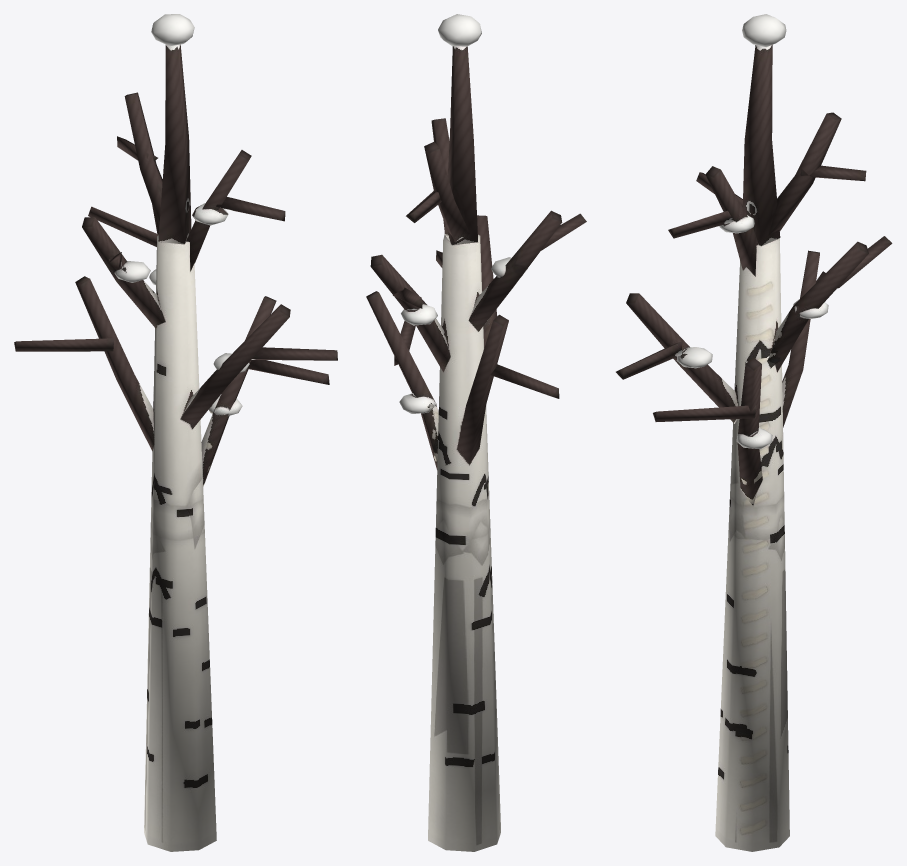
Rendered from tree_bare_kaba.glb.
3 views of the same model, side by side, from view 1: azimuth 30°, elevation 25°; view 2: azimuth 150°, elevation 25°; view 3: azimuth 270°, elevation 25° (orthographic).
Visible parts, largest first — view 1: prop_tree_bare_kaba_felt; view 2: prop_tree_bare_kaba_felt; view 3: prop_tree_bare_kaba_felt.
Part boxes in pixels (x1=…): prop_tree_bare_kaba_felt: x1=14, y1=14, x2=337, y2=851; prop_tree_bare_kaba_felt: x1=366, y1=14, x2=586, y2=851; prop_tree_bare_kaba_felt: x1=616, y1=14, x2=892, y2=851.
Bounding box in the file's own units: 3.03 × 10.28 × 3.16.
Materials: 1 (1 with a texture image).
